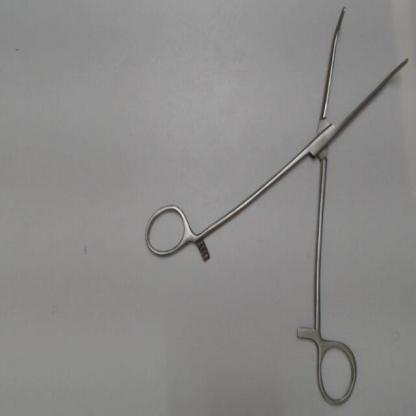Lahey Forceps: (138, 2, 414, 411)
